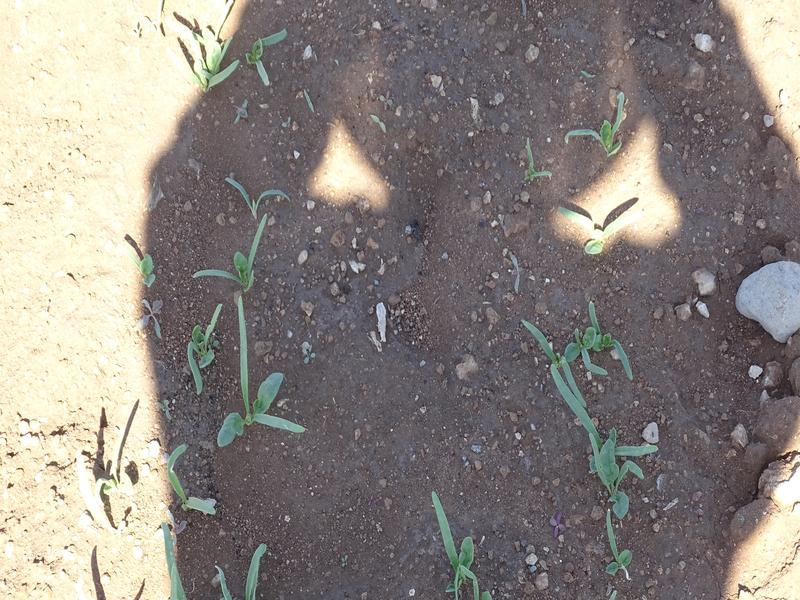Espinaca: (531, 308, 659, 585), (181, 190, 316, 441), (76, 447, 279, 600), (510, 92, 634, 194), (167, 13, 290, 89), (424, 495, 487, 600), (555, 201, 658, 264)
